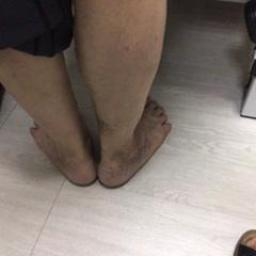Back View -Both Feet-: (13, 80, 182, 194)
